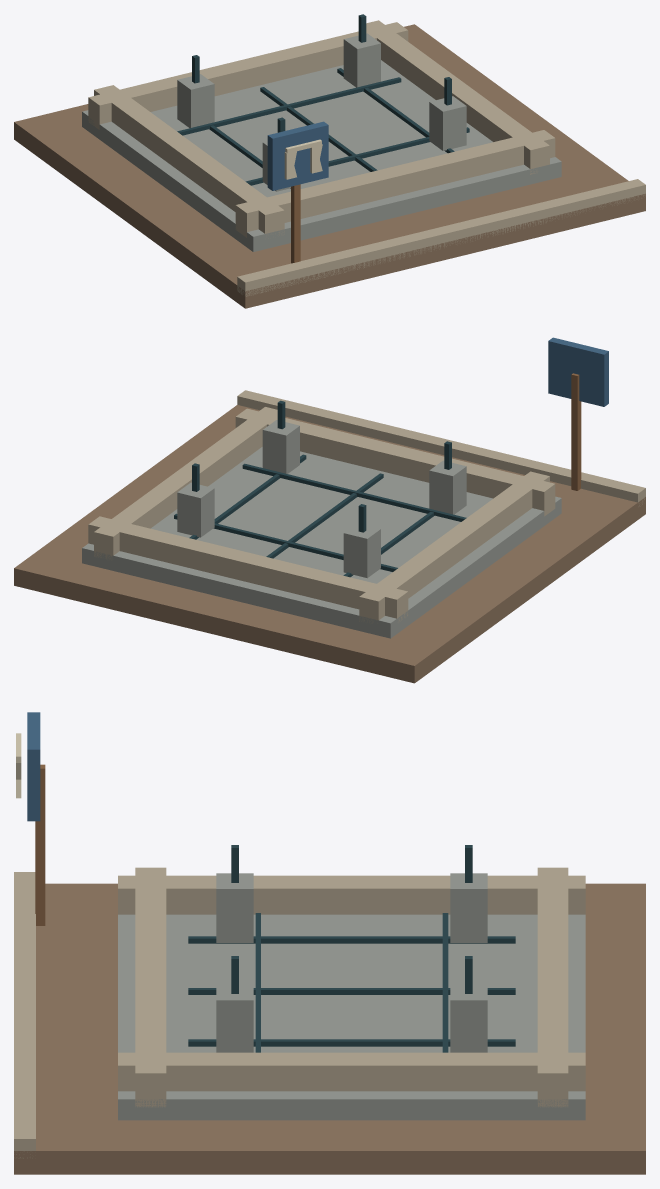
Rendered from theatre-seabreeze-foundation.glb.
3 views of the same model, one above another, from view 1: azimuth 30°, elevation 25°; view 2: azimuth 150°, elevation 25°; view 3: azimuth 270°, elevation 25° (orthographic). The views are drawn at different scales.
Visible parts, largest first — view 1: theatre; view 2: theatre; view 3: theatre.
Part boxes in pixels (left/top/right/bottom): theatre: left=14, top=14, right=645, bottom=308; theatre: left=14, top=337, right=645, bottom=683; theatre: left=14, top=712, right=645, bottom=1174.
Bounding box in the file's own units: 2.88 × 1.09 × 2.88.
